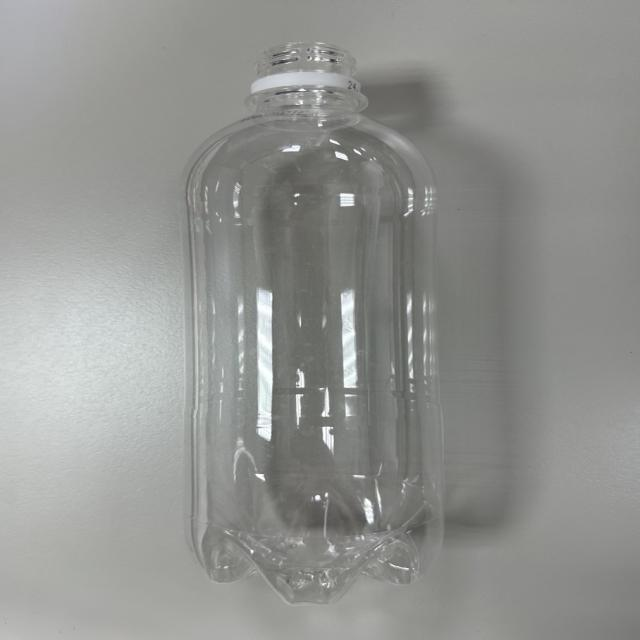Transparent Plastic Bottle: (178, 41, 430, 606)
